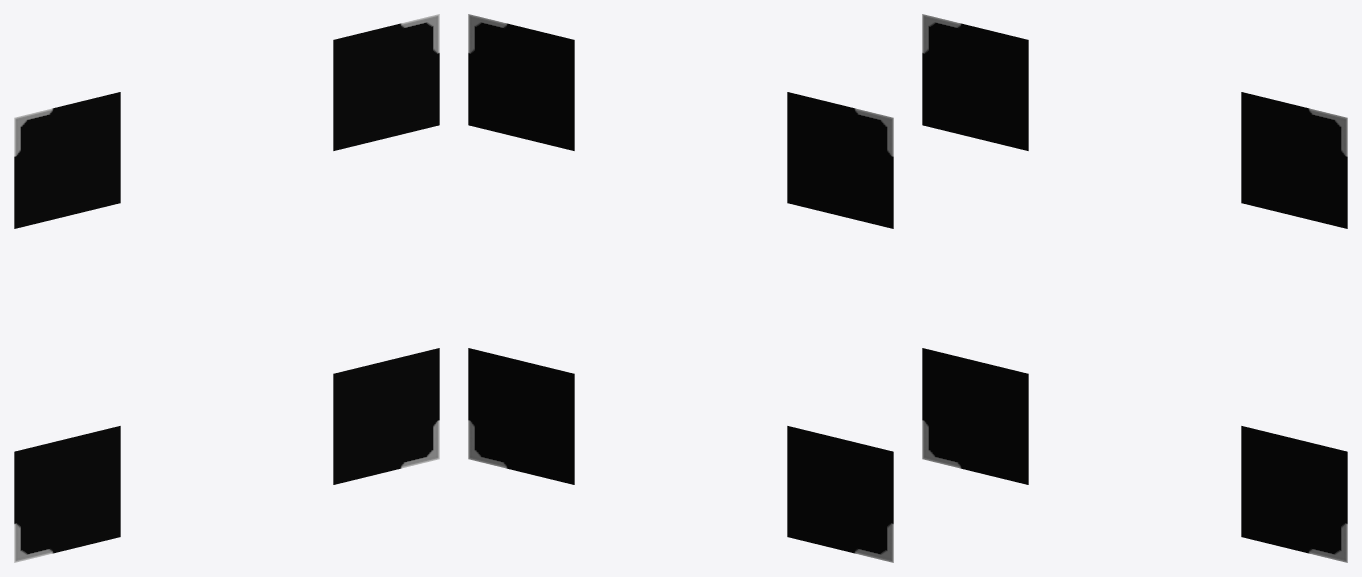
The model's file is xinshouyindao_biankuang.FBX.
3 views of the same model, side by side, from view 1: azimuth 30°, elevation 25°; view 2: azimuth 150°, elevation 25°; view 3: azimuth 330°, elevation 25° (orthographic).
Parts seen in each view (by area): view 1: Plane005; view 2: Plane005; view 3: Plane005.
Boxes of the visible parts, bbox=[...] form: Plane005: bbox=[14, 14, 439, 562]; Plane005: bbox=[468, 14, 893, 562]; Plane005: bbox=[922, 14, 1347, 562].
Size of the model in its own units: 400 by 400 by 4.37e-06.
